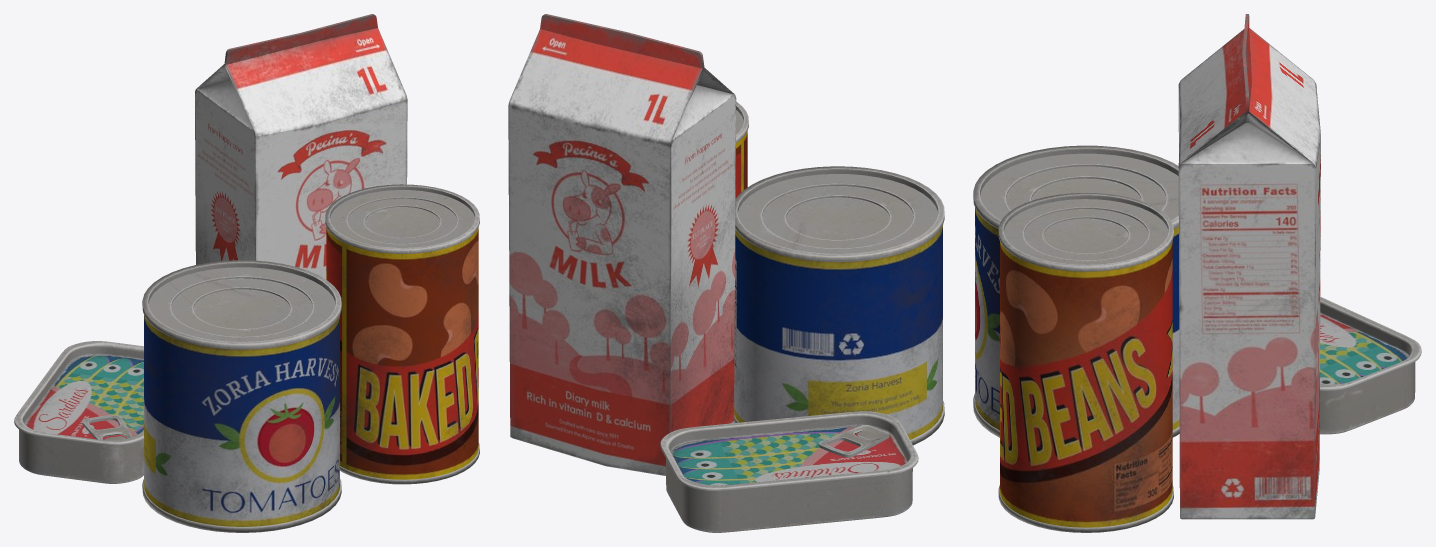
Rendered from latas.glb.
3 renders of one model, left to right at view 1: azimuth 30°, elevation 25°; view 2: azimuth 150°, elevation 25°; view 3: azimuth 270°, elevation 25°, orthographic. The views are drawn at different scales.
Size of the model in its own units: 2 by 1.93 by 1.83.
Materials: 1 (1 with a texture image).
